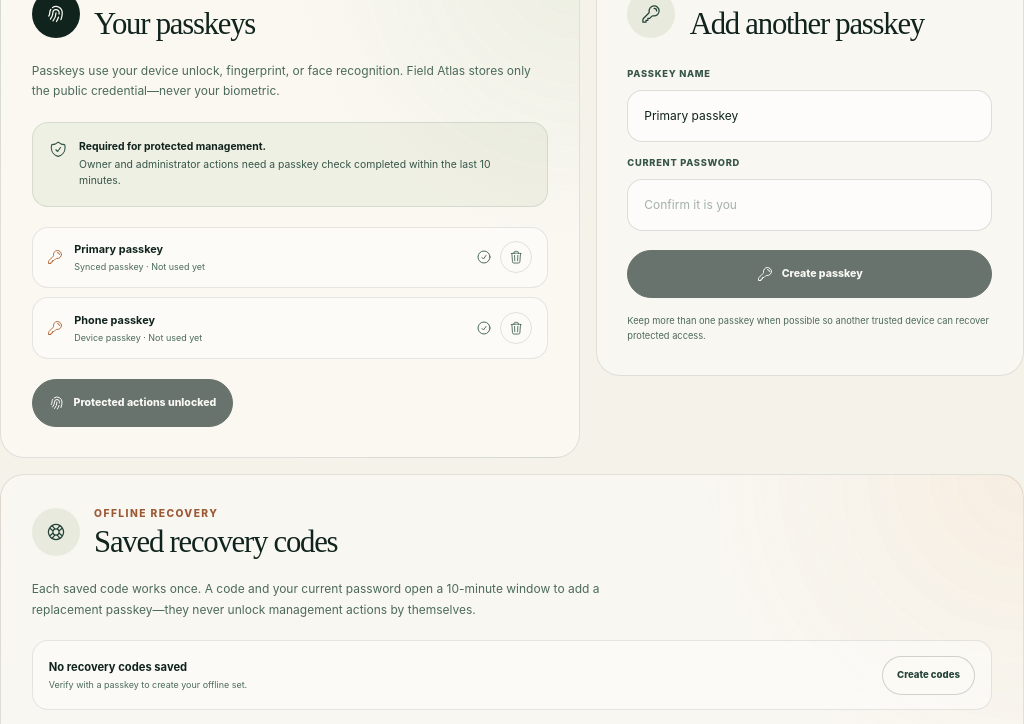
Test: passkey security experience › removes a privileged credential only after recent step-up confirmation
Click the button named "Remove Primary passkey" at (516, 257), box [500,241,532,273]
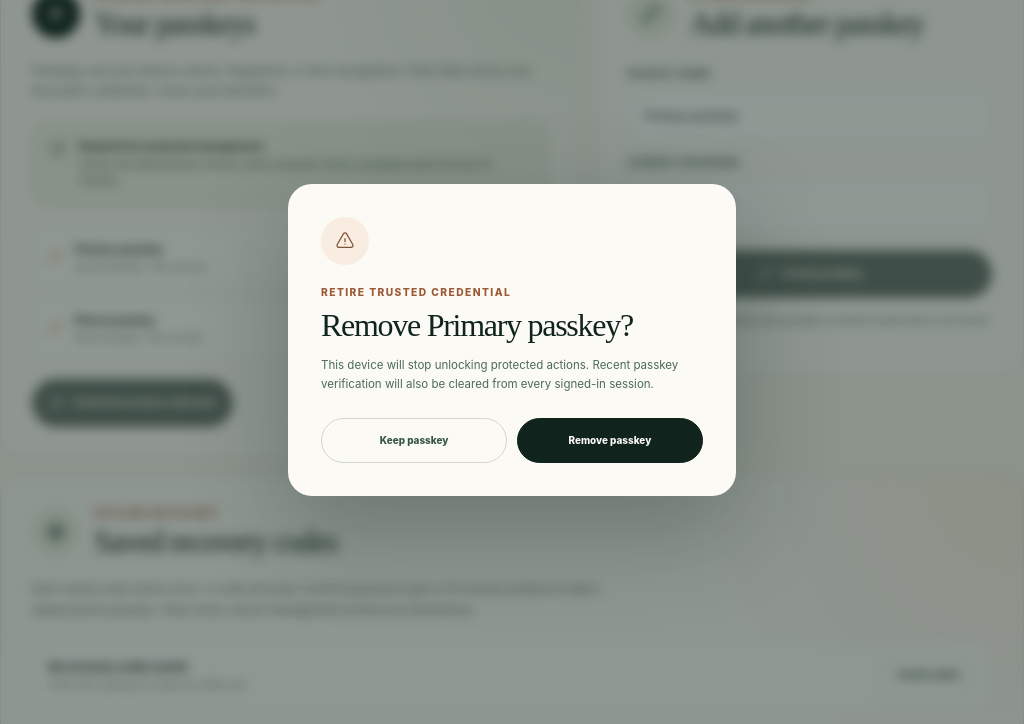
Click the button "Remove passkey" at (610, 441), box [517,418,703,463]
(page scrolled)
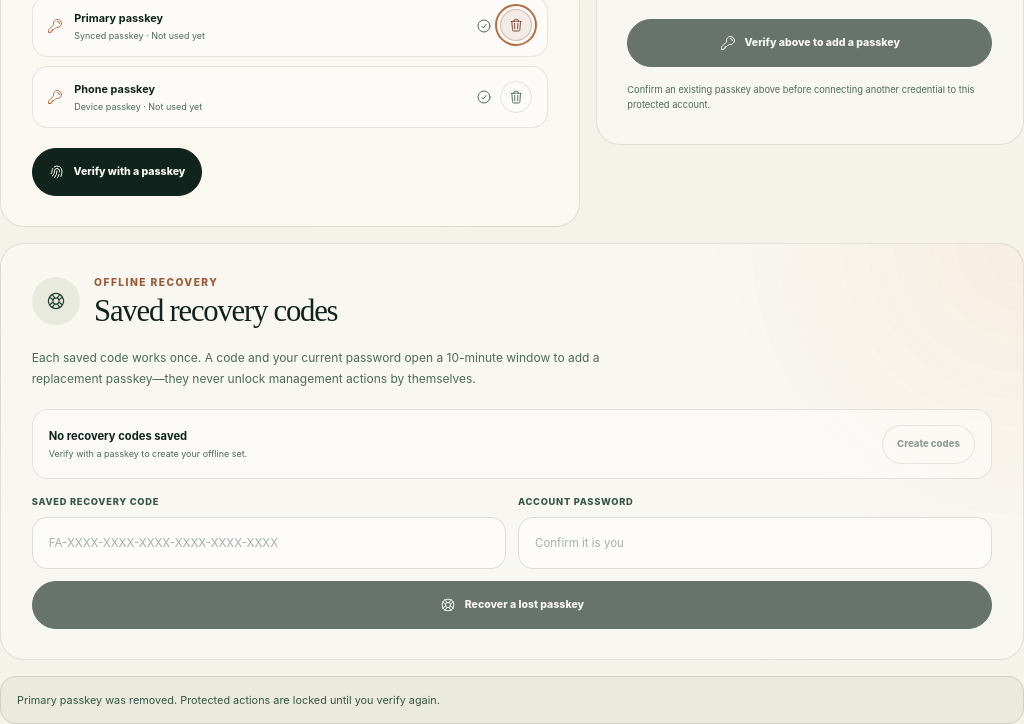
Check: the message shows "Protected actions are locked", box [17,693,440,707]
